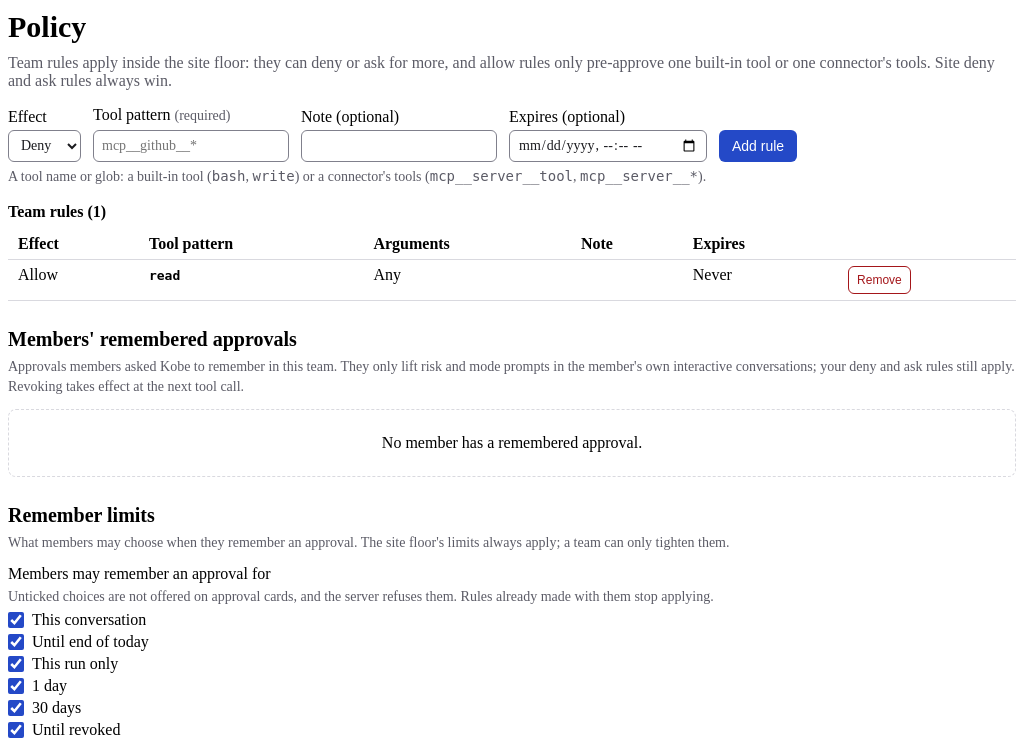
it: Team policy › offers deny, ask and allow, names the team, and shows the server's allow-scope refusal
Select "Allow" in the dropdown labelled "Effect" at x=44, y=146, box [8,130,81,162]
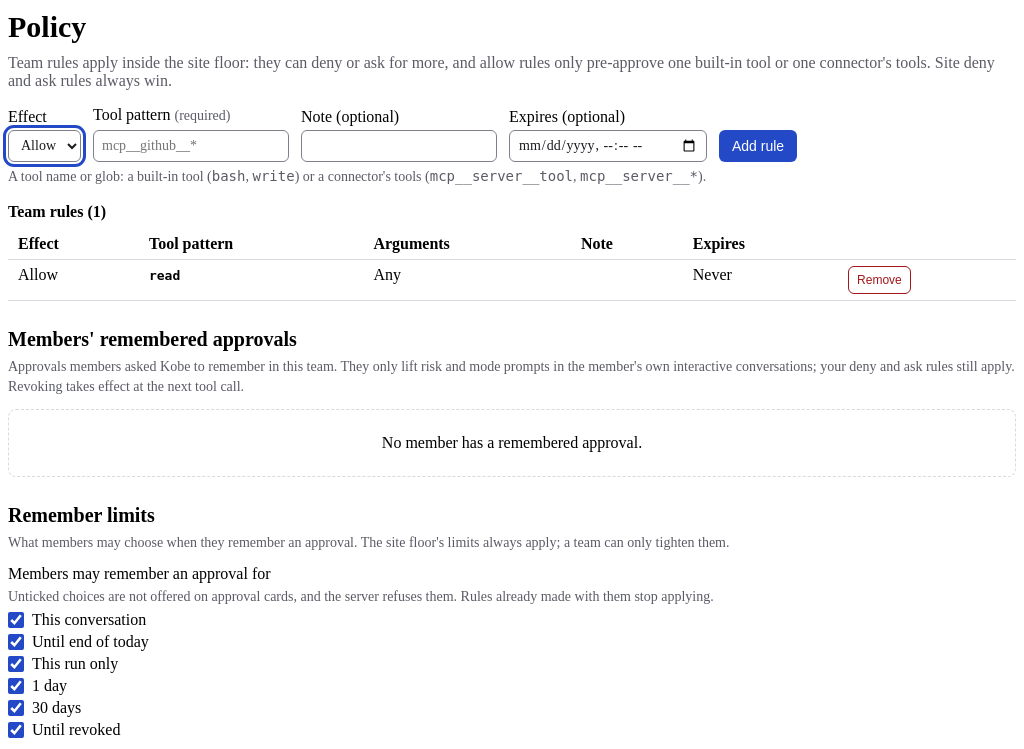
Type "*" into the field labelled "Tool pattern(required)".
click(191, 146); type("*")  # box [93,130,289,162]
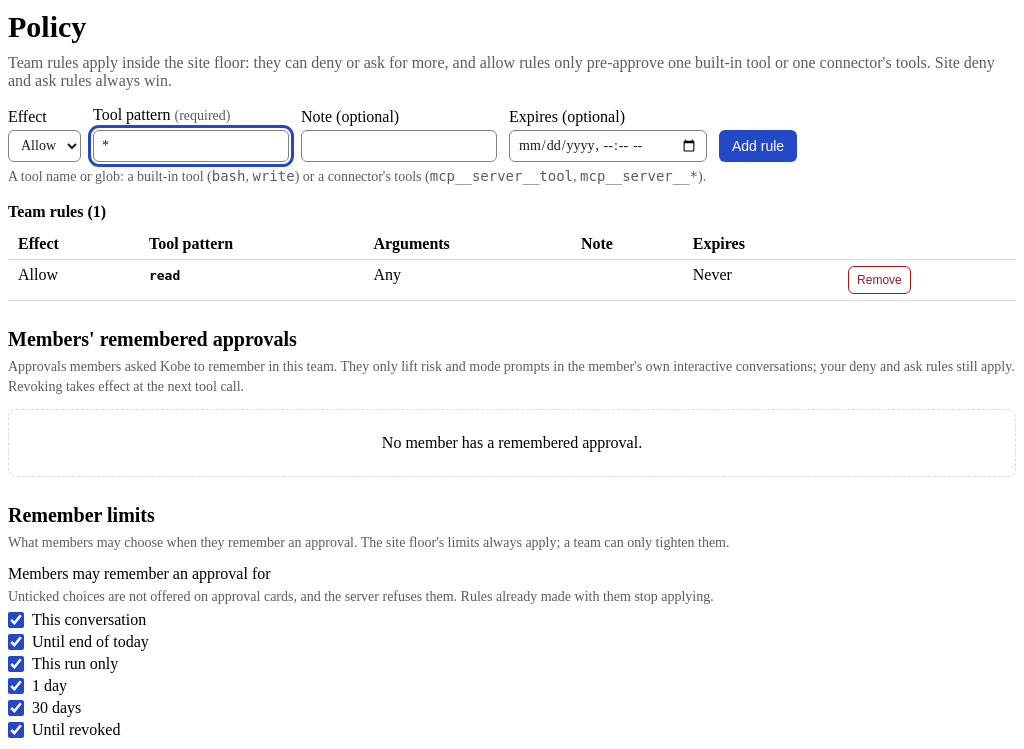
Click the button "Add rule".
click(758, 146)  # box [719,130,797,162]
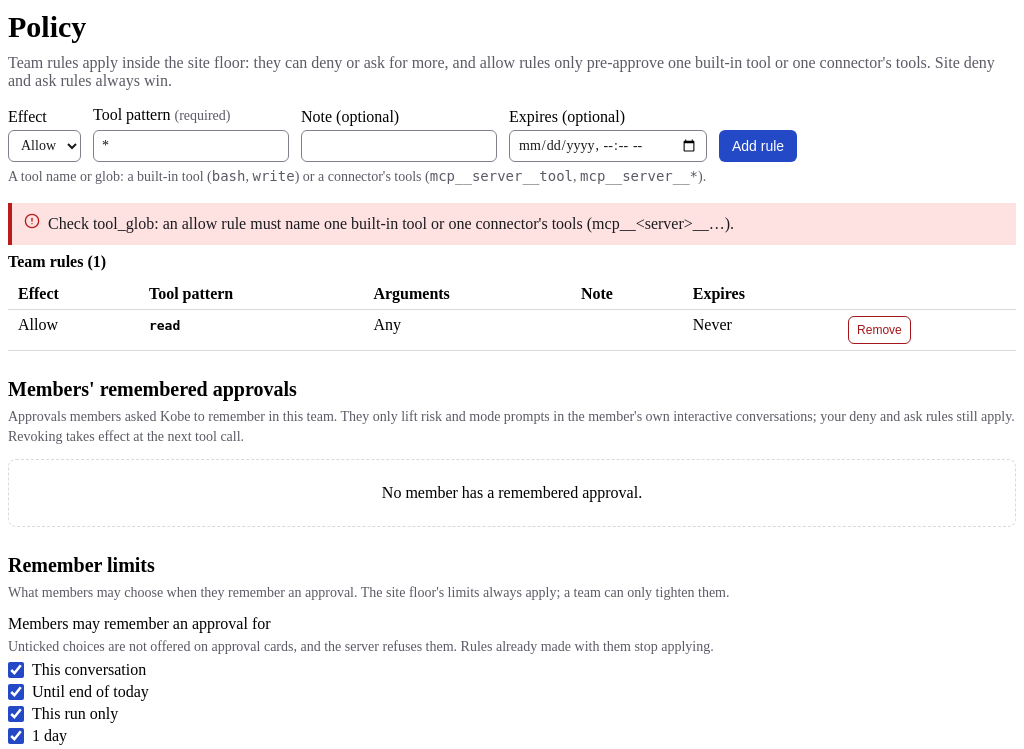
Check: the message shows "allow rule must name one", box [48,214,734,232]
